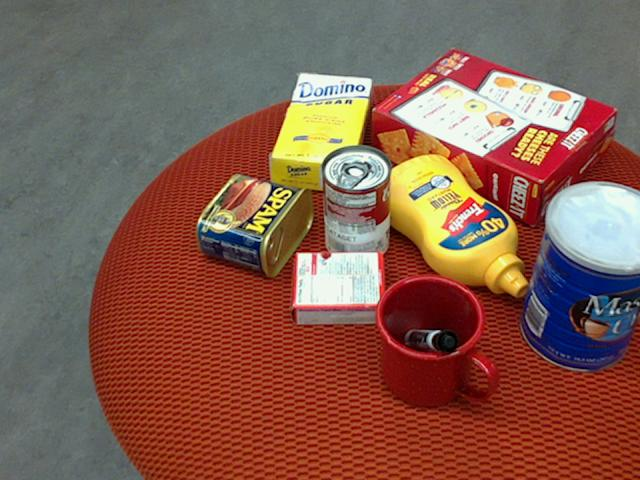cracker_box: (371, 47, 614, 224)
gelatin_box: (287, 252, 382, 327)
large_marker: (403, 328, 457, 352)
master_chef_can: (517, 181, 639, 371)
mug: (371, 273, 493, 407)
mustard_bottle: (370, 154, 526, 298)
potted_meat_can: (194, 173, 312, 277)
sugar_box: (269, 73, 371, 192)
tomato_soup_can: (319, 142, 390, 263)
tuna_fish_can: (551, 195, 639, 276)
